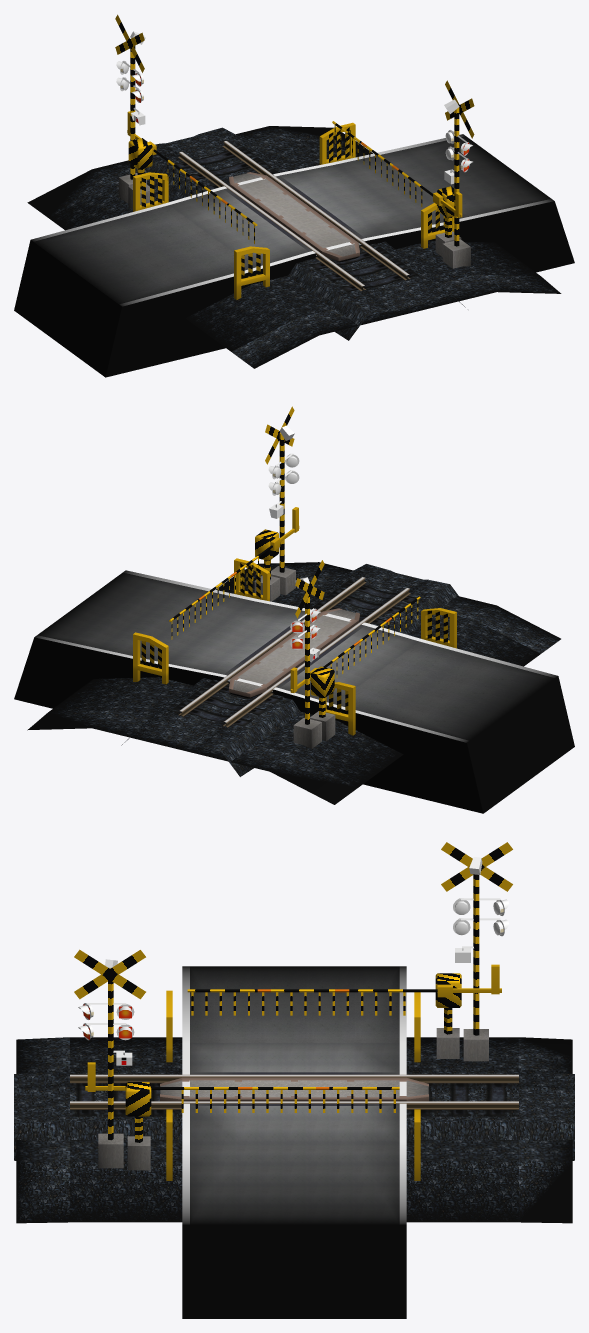
Rendered from SIN_1RAIL_25_HUMIKIRI.glb.
3 views of the same model, one above another, from view 1: azimuth 30°, elevation 25°; view 2: azimuth 150°, elevation 25°; view 3: azimuth 270°, elevation 25° (orthographic). The views are drawn at different scales.
Visible parts, largest first — view 1: obj3, BODY (×2), obj7, obj8, BAR4 (×2), OBI4 (×2); view 2: obj3, BODY (×2), obj7, obj8, BAR4 (×2); view 3: obj3, BODY (×2), BAR4 (×2), OBI4 (×2), obj8, obj7.
Boxes of the visible parts, bbox=[...] form: obj3: bbox=[14, 126, 574, 377]; BODY (×2): bbox=[115, 14, 474, 268]; obj7: bbox=[133, 122, 355, 211]; obj8: bbox=[234, 202, 454, 299]; BAR4 (×2): bbox=[127, 111, 462, 225]; OBI4 (×2): bbox=[167, 125, 422, 243]; obj3: bbox=[14, 562, 574, 813]; BODY (×2): bbox=[254, 406, 335, 748]; obj7: bbox=[133, 632, 355, 735]; obj8: bbox=[234, 558, 456, 648]; BAR4 (×2): bbox=[169, 507, 420, 692]; obj3: bbox=[14, 966, 574, 1318]; BODY (×2): bbox=[74, 842, 512, 1170]; BAR4 (×2): bbox=[85, 964, 501, 1091]; OBI4 (×2): bbox=[181, 992, 405, 1112]; obj8: bbox=[166, 990, 172, 1180]; obj7: bbox=[414, 992, 420, 1180].
Size of the model in its own units: 37 by 17.38 by 31.25.
Materials: 33 (32 with a texture image).
